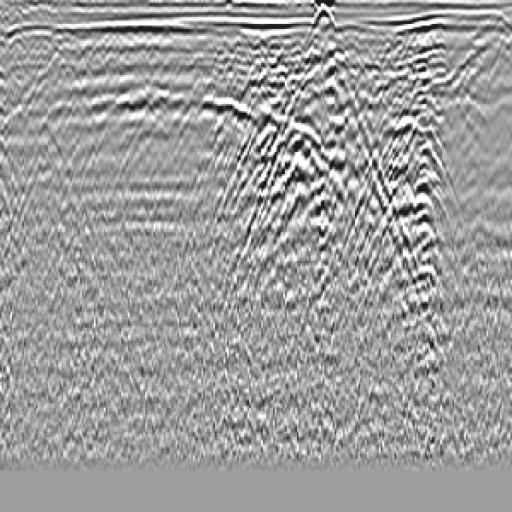non-metallic: (221, 25, 407, 331), (373, 26, 464, 340)
